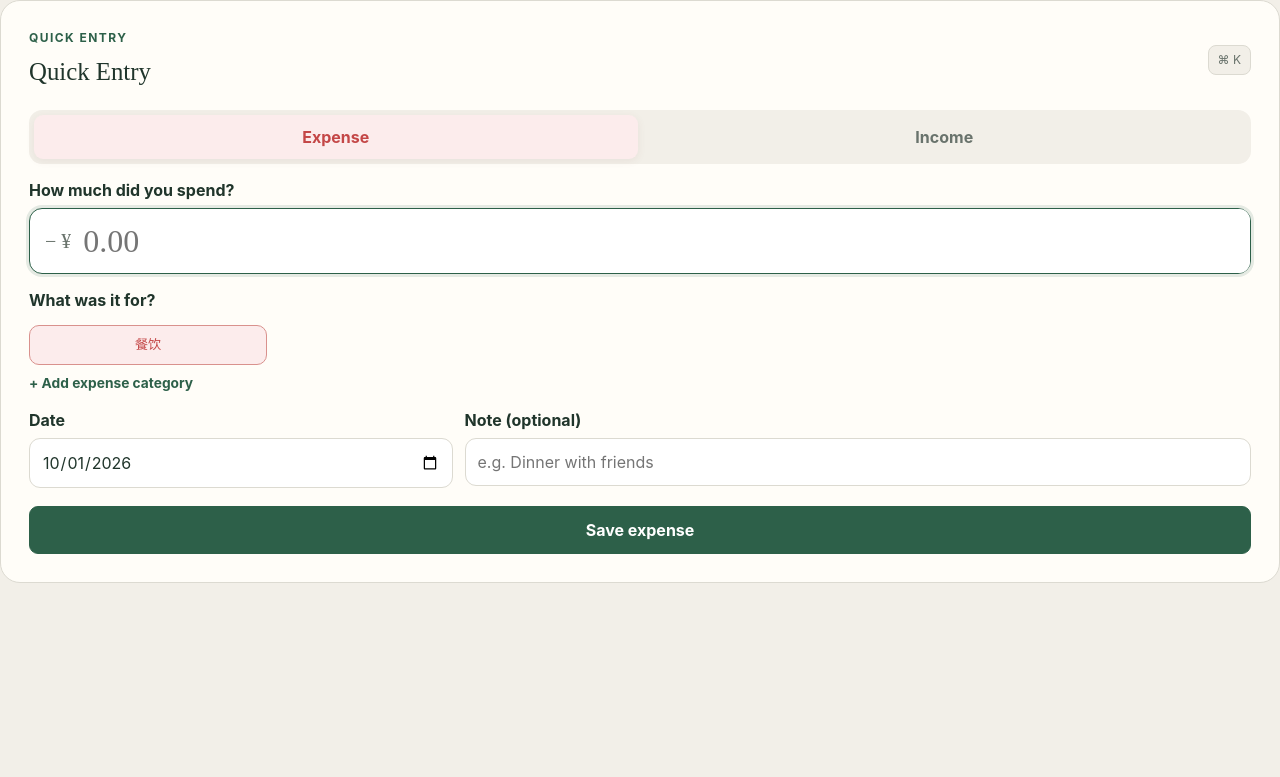
TransactionForm › 输入支出时实时预览总预算和分类预算的记账后进度
In the number field with id "amount": (661, 241) x1=71 y1=209 x2=1250 y2=273, type "50"
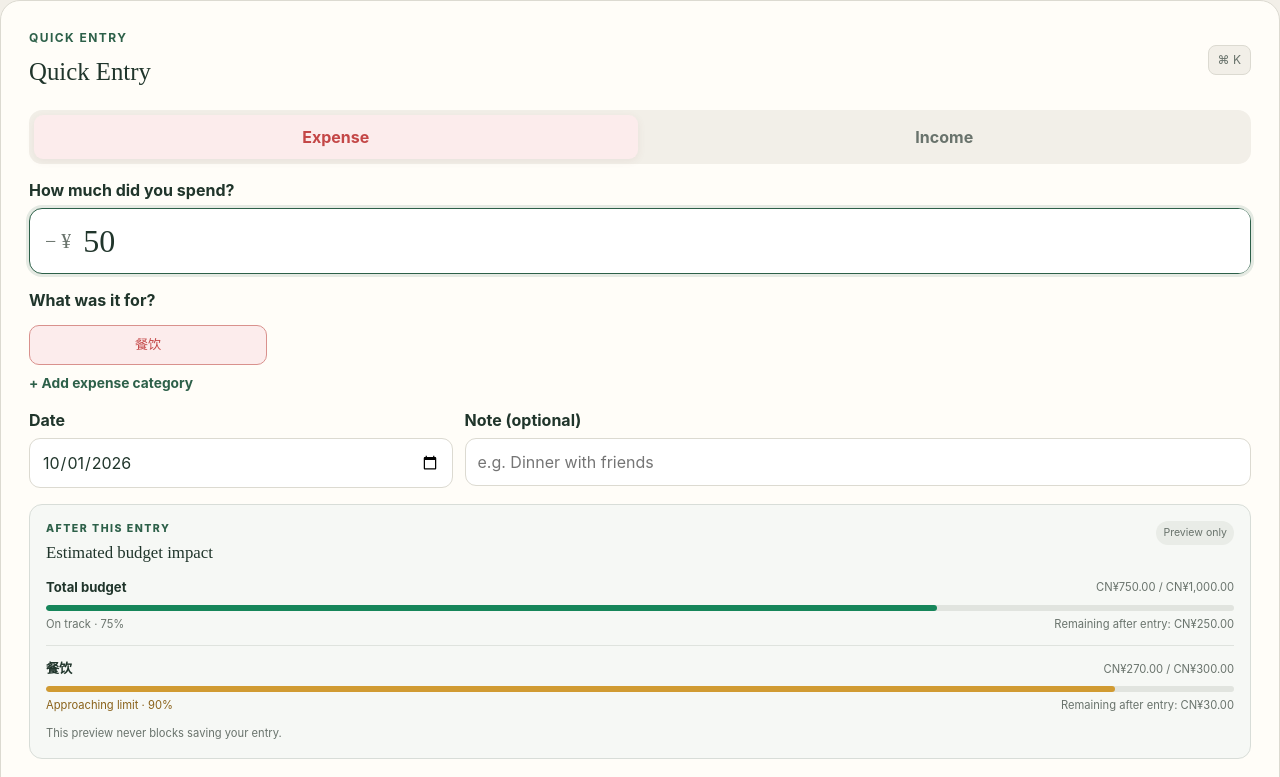
Check: the number of elements with class "budget-impact-row" is 2, box x1=46 y1=578 x2=1234 y2=632; x1=46 y1=645 x2=1234 y2=714
Check: the text "Estimated budget impact" is shown, box x1=46 y1=540 x2=213 y2=565
Check: the element with class "budget-impact-row" shows "75%", box x1=46 y1=617 x2=124 y2=631
